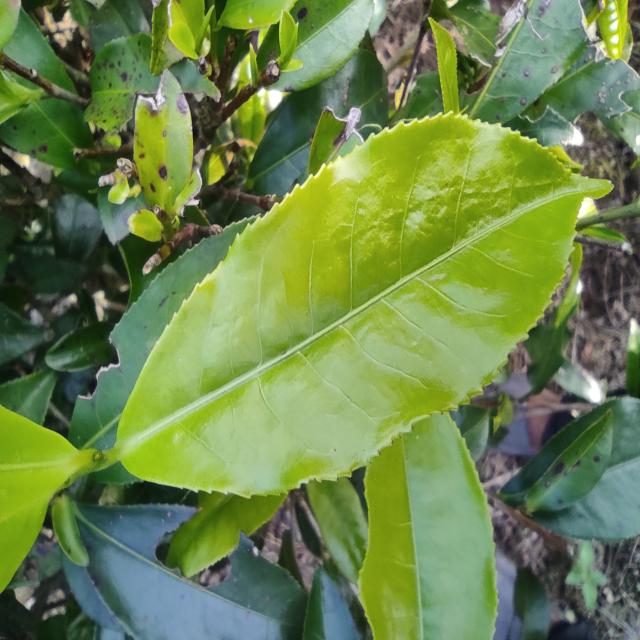Category B(2-4 days): (85, 90, 620, 512)
